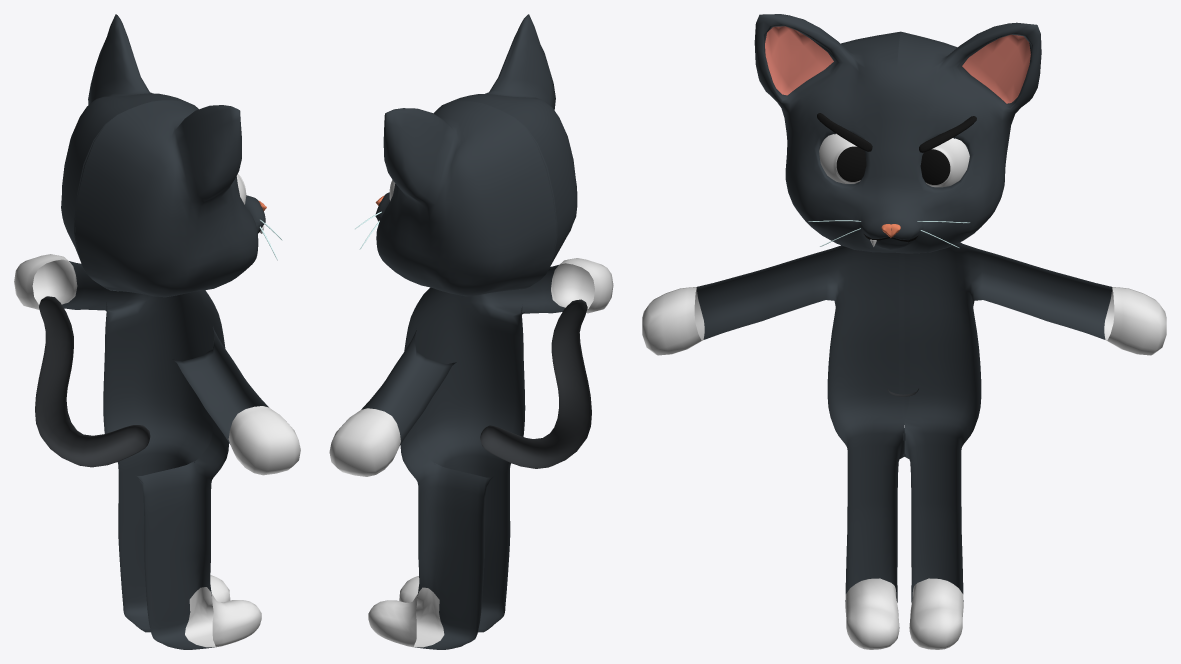
The model's file is LEITEQUENTEORIGINAL.fbx.
The picture shows the model from 3 angles, left to right: view 1: azimuth 30°, elevation 25°; view 2: azimuth 150°, elevation 25°; view 3: azimuth 270°, elevation 25°; orthographic projection. The views are drawn at different scales.
Parts seen in each view (by area): view 1: Cube.002, Sphere, Cube.004; view 2: Cube.002, Sphere, Cube.004; view 3: Cube.002, Sphere.
Boxes of the visible parts, x1,y1,x2,y2 form: Cube.002: (14, 254, 300, 649); Sphere: (61, 14, 265, 297); Cube.004: (35, 296, 150, 467); Cube.002: (329, 258, 613, 649); Sphere: (375, 14, 577, 296); Cube.004: (480, 299, 591, 468); Cube.002: (642, 242, 1166, 649); Sphere: (754, 14, 1041, 253).
Bounding box in the file's own units: 164 × 410 × 323.
